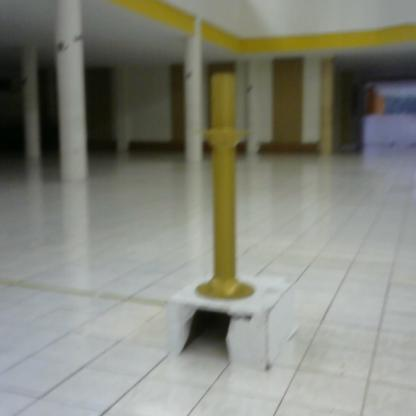pole: (184, 69, 266, 309)
